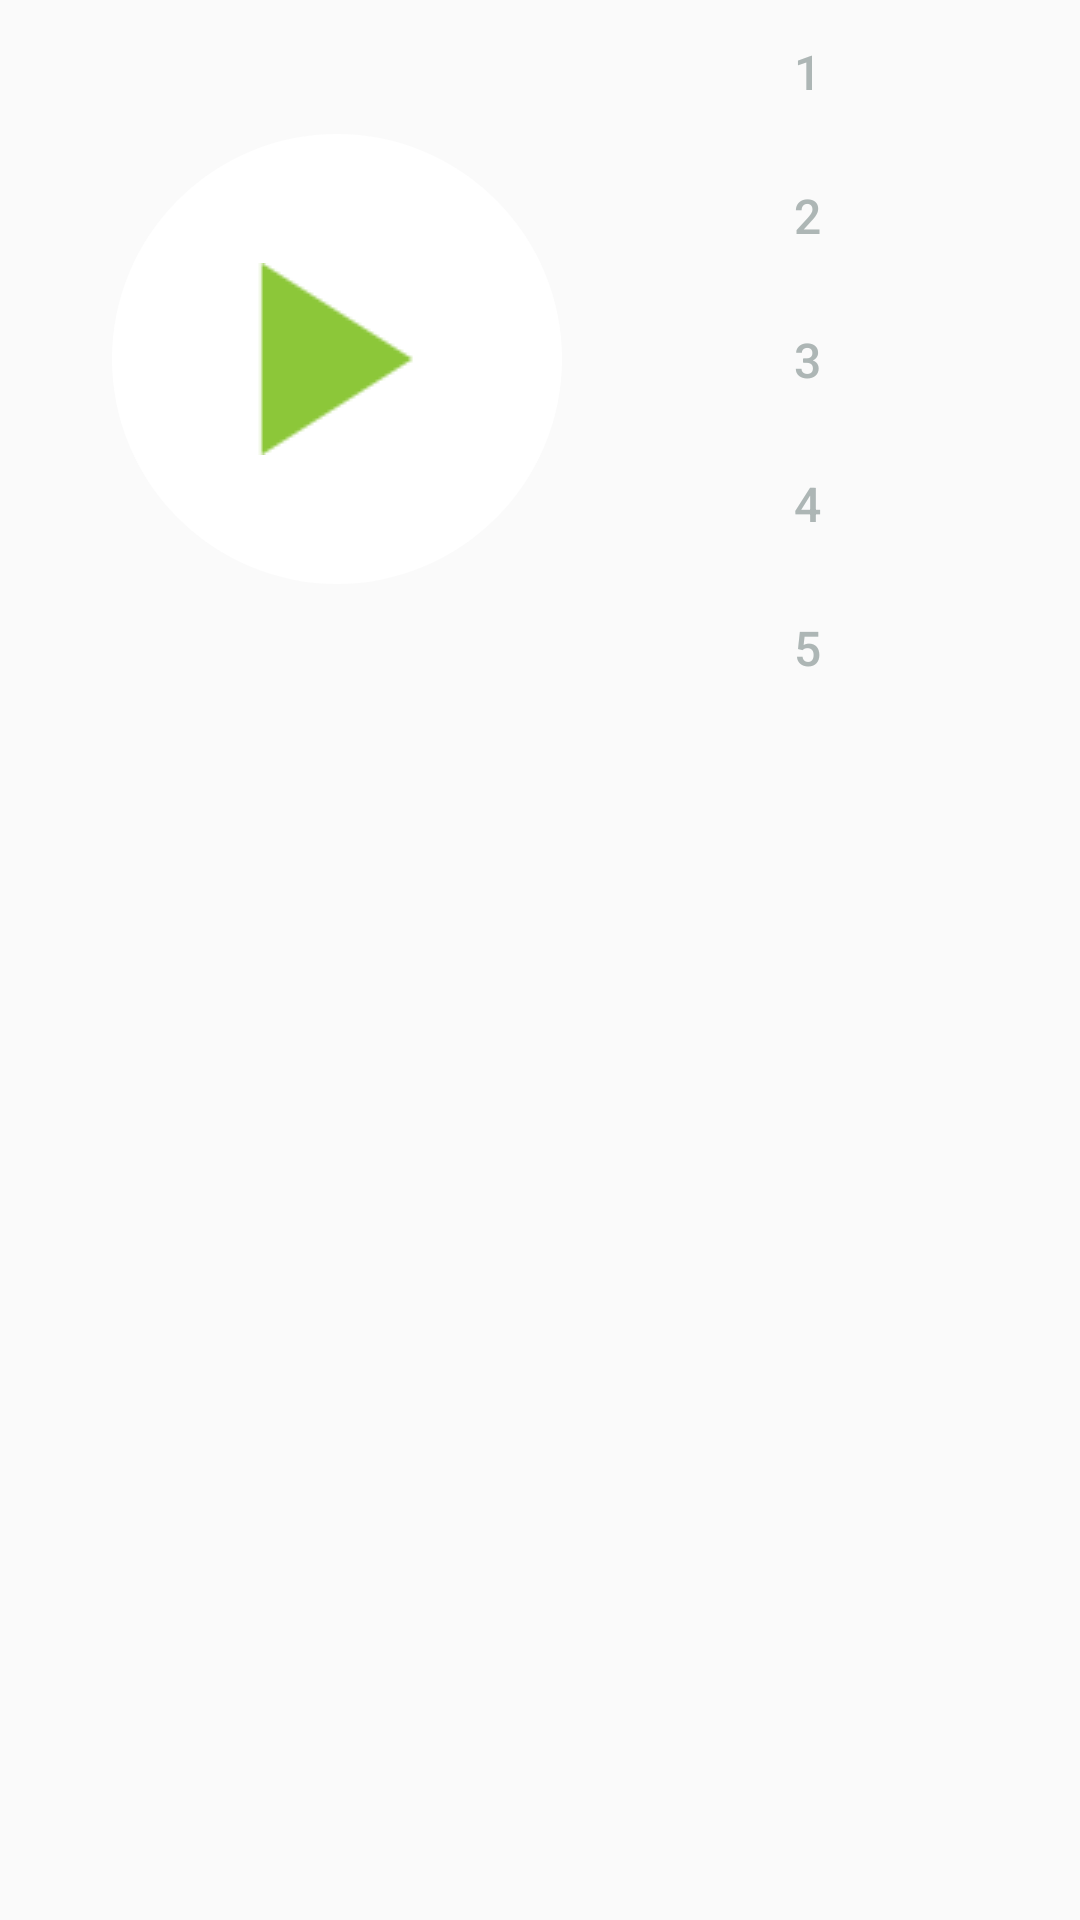

Point at icon controls on the screen. Image size 1080 × 1920, points as (x=x, y=y).
play: (x=336, y=359)
